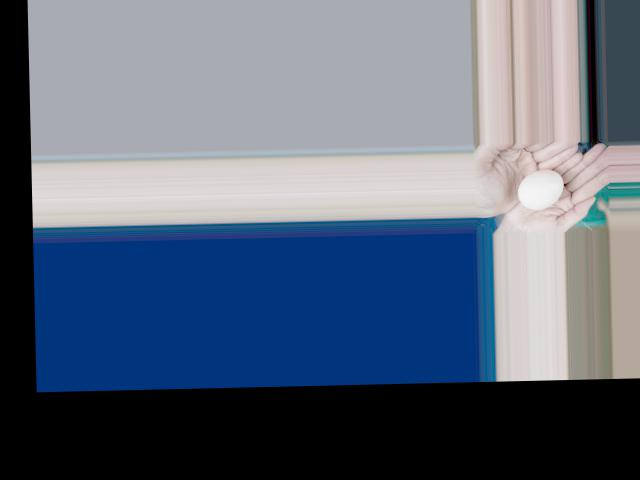egg: (518, 169, 564, 209)
